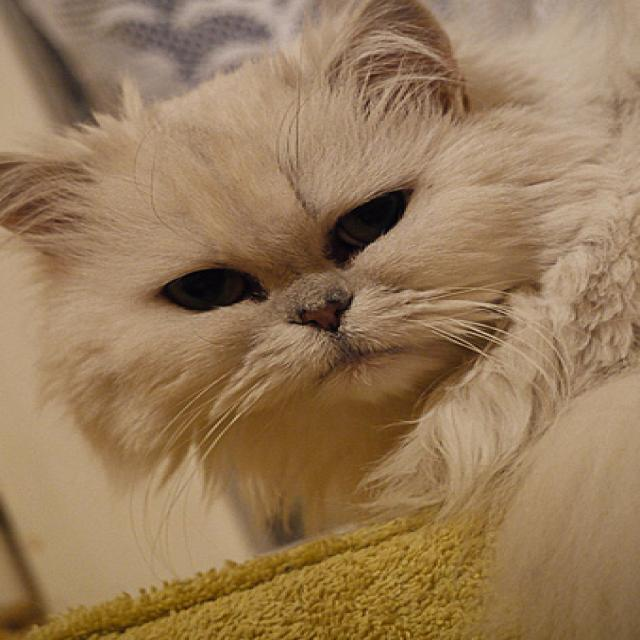Persian: (0, 0, 640, 532)
